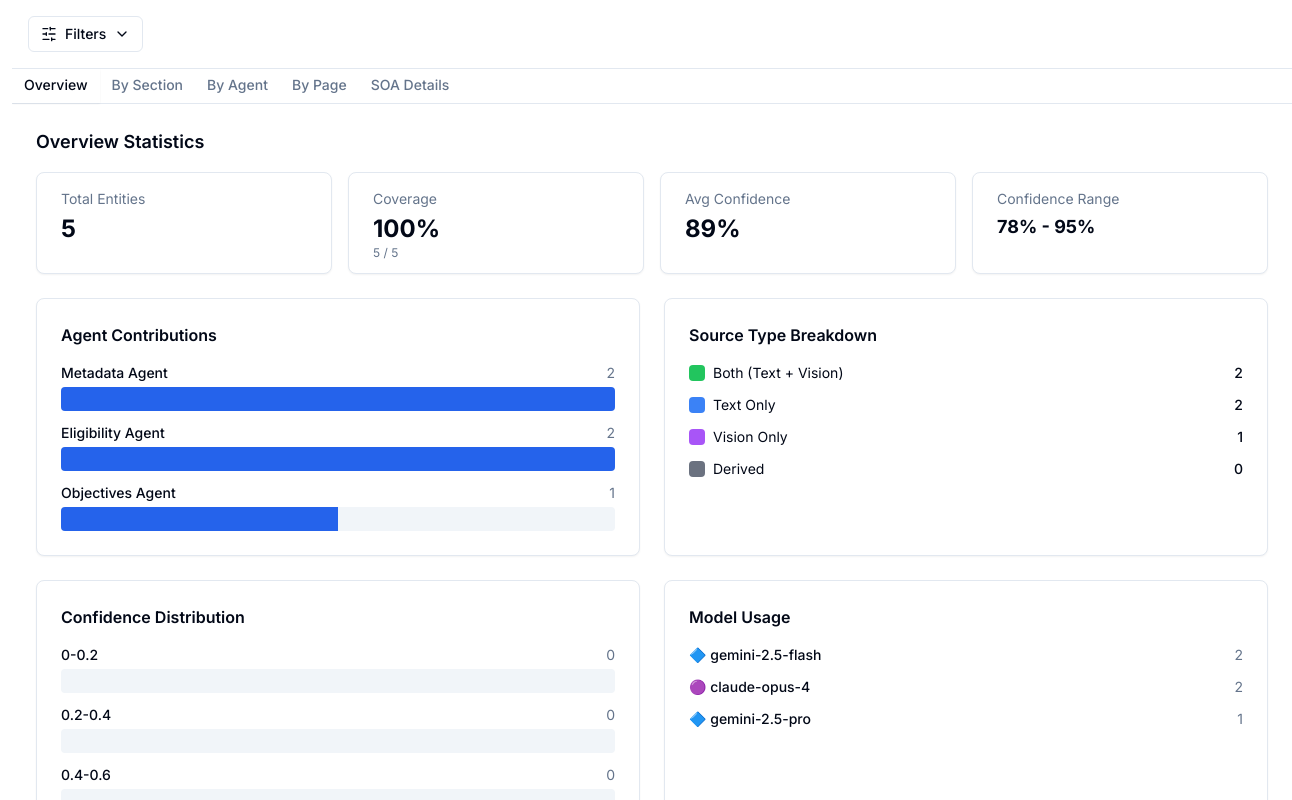
Test: ByAgentTab › should calculate and display average confidence correctly
Switch to By Agent tab
Click the tab "By Agent" at {"x": 237, "y": 86}, box [195,69,280,103]
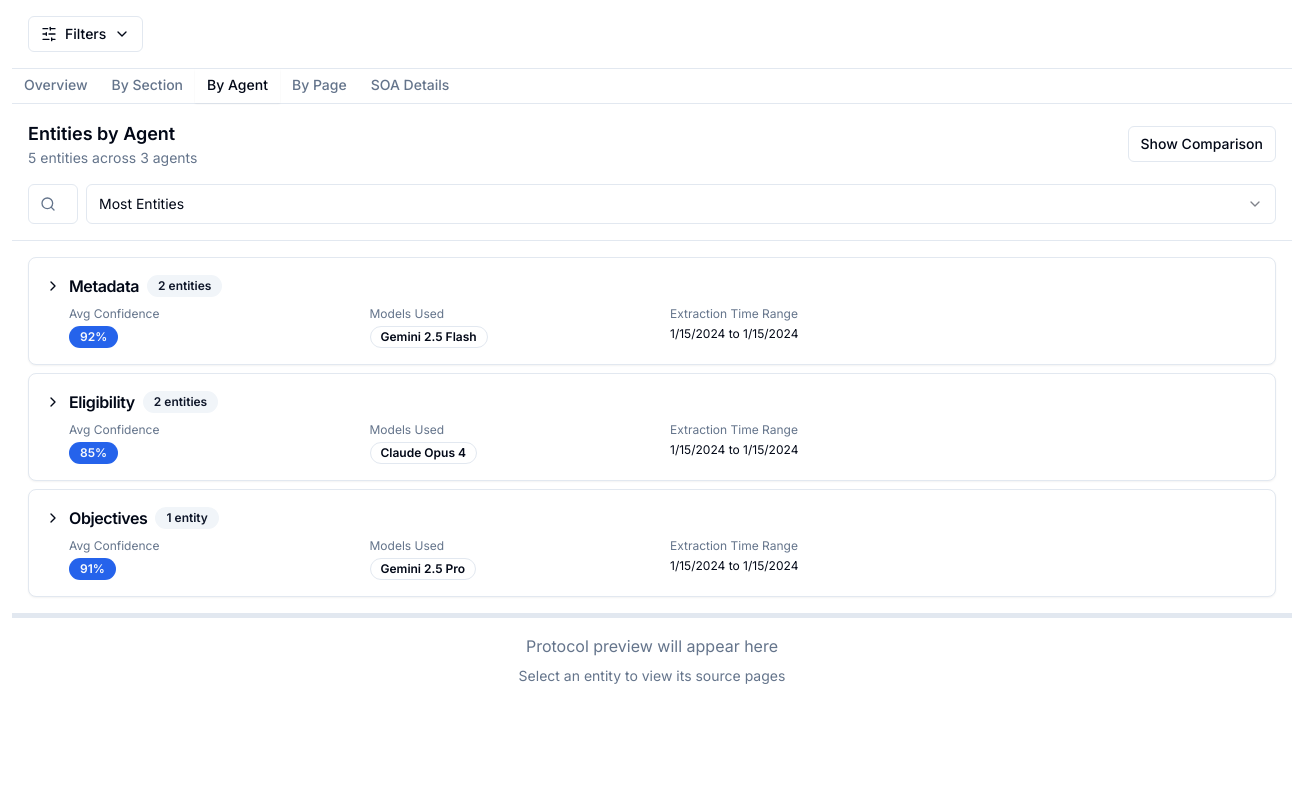
expect the text "92%" is shown: met, box [69,326,118,348]
expect the text "85%" is shown: met, box [69,442,118,464]
expect the text "91%" is shown: met, box [69,558,116,580]
